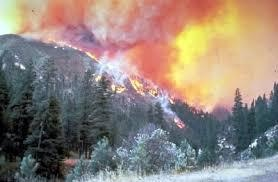fire: (162, 5, 237, 108)
